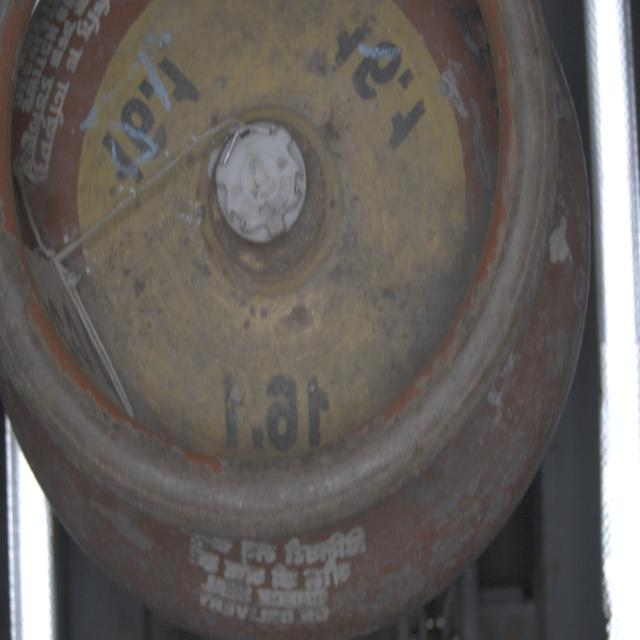Cap: (216, 115, 309, 249)
